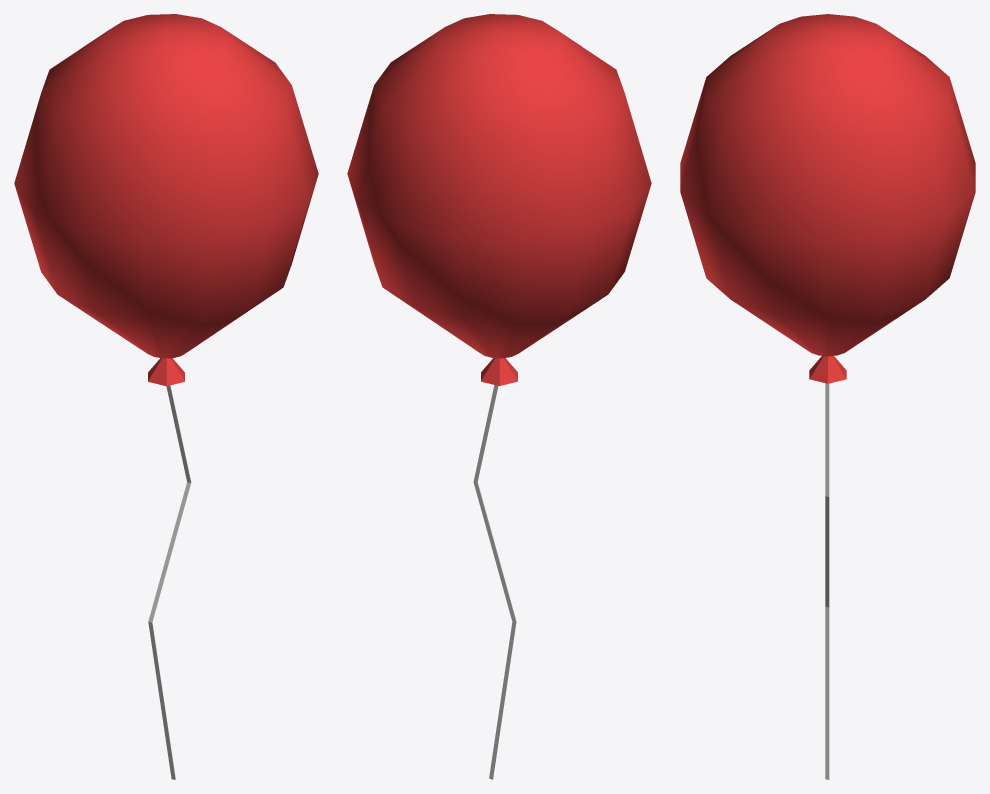
The model's file is Balloon.fbx.
3 views of the same model, side by side, from view 1: azimuth 30°, elevation 25°; view 2: azimuth 150°, elevation 25°; view 3: azimuth 270°, elevation 25° (orthographic).
Visible parts, largest first — view 1: Balloon; view 2: Balloon; view 3: Balloon.
Part boxes in pixels (x1,y1,x2,y2): Balloon: [14, 14, 318, 779]; Balloon: [347, 14, 651, 779]; Balloon: [680, 14, 975, 779].
Size of the model in its own units: 1.7 by 4.6 by 1.66.
Materials: 1 (1 with a texture image).
